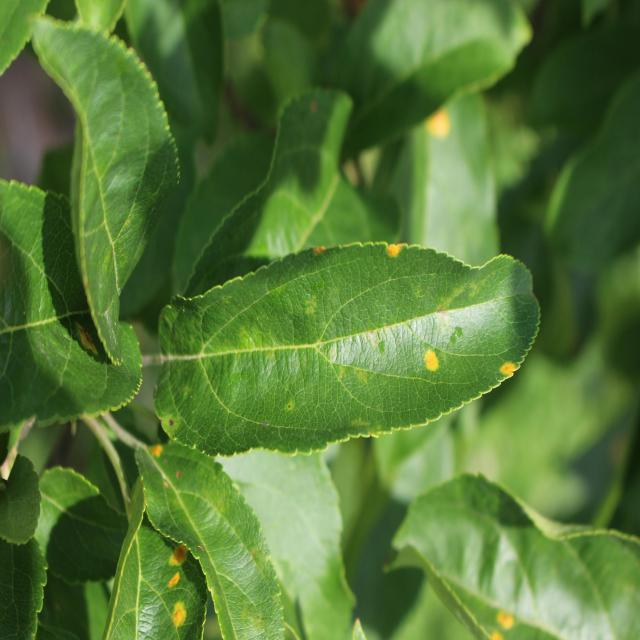Rust: (484, 596, 524, 640), (152, 535, 200, 571), (416, 346, 460, 378), (142, 422, 173, 464), (496, 351, 526, 393), (310, 227, 332, 277), (380, 229, 407, 269), (166, 597, 192, 629), (161, 572, 195, 589)
